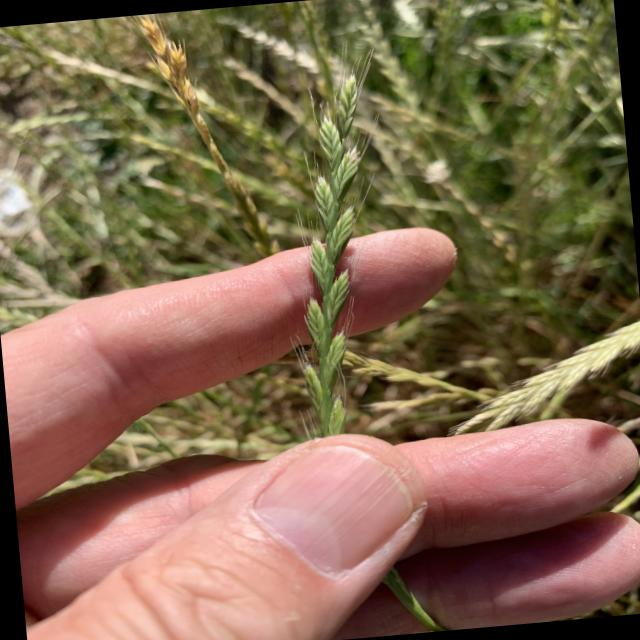Lolium: (260, 38, 412, 442), (130, 7, 278, 268)
